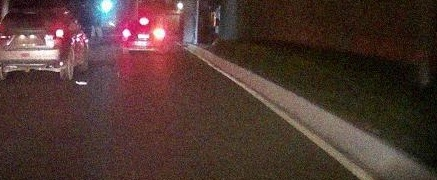L_light: (122, 31, 131, 35)
R_light: (154, 30, 164, 35)
T_light: (140, 20, 149, 23)
night-right: (121, 17, 167, 55)
